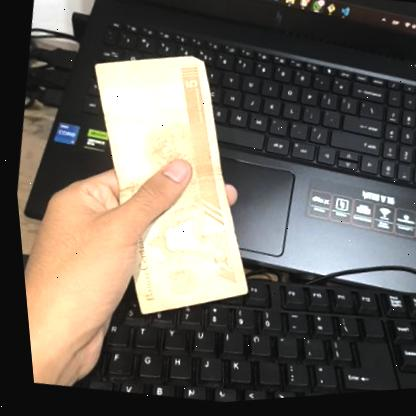five-back-vef: (48, 37, 285, 336)
